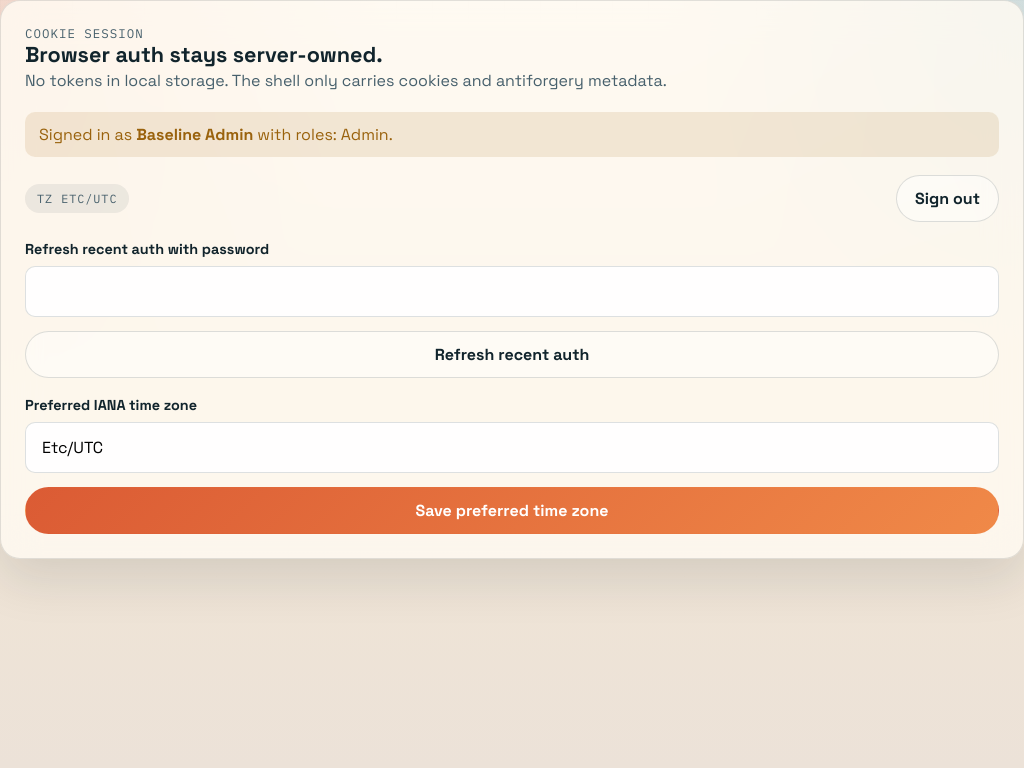
Test: AuthPanel › flips aria-invalid and shows a zod error message when step-up is submitted with an empty password
What coordinates should you click on to do the following:
click the button "Refresh recent auth"
I would click on:
 (512, 354)
Its box is [25,331,999,378].
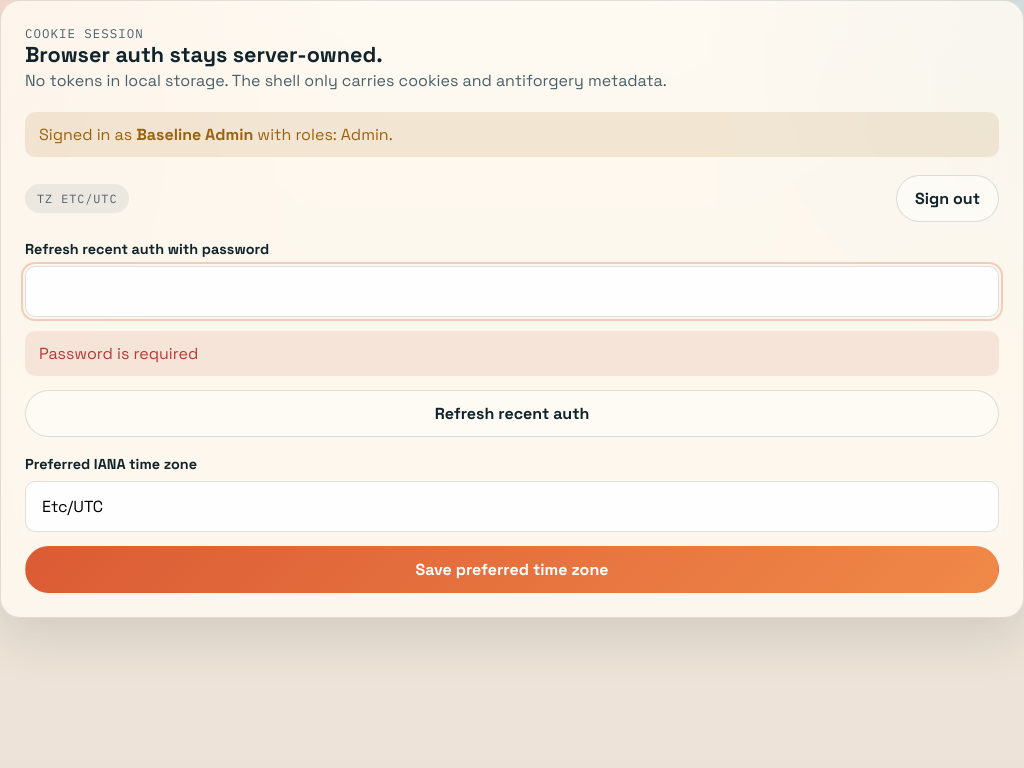
Expected: the message reads "Password is required", [39,343,198,364]
